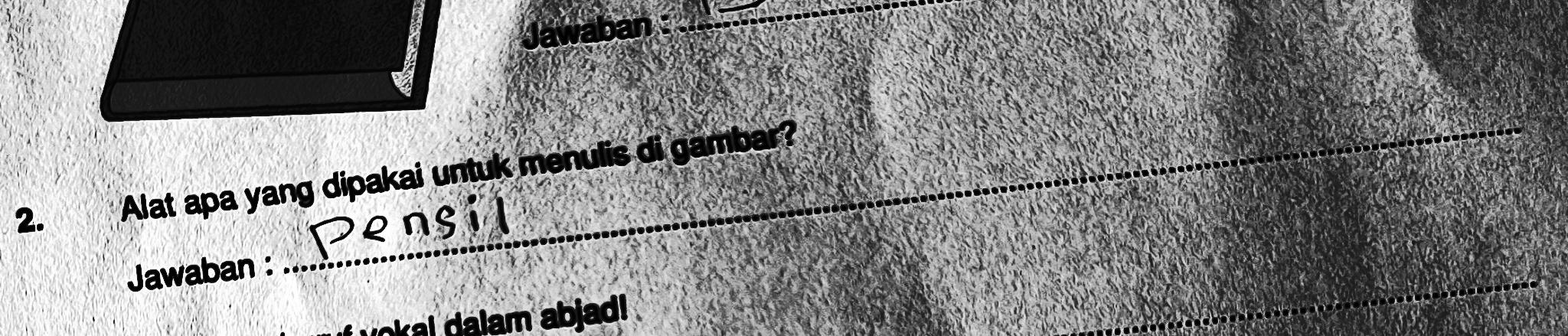jawaban: (303, 184, 520, 268)
